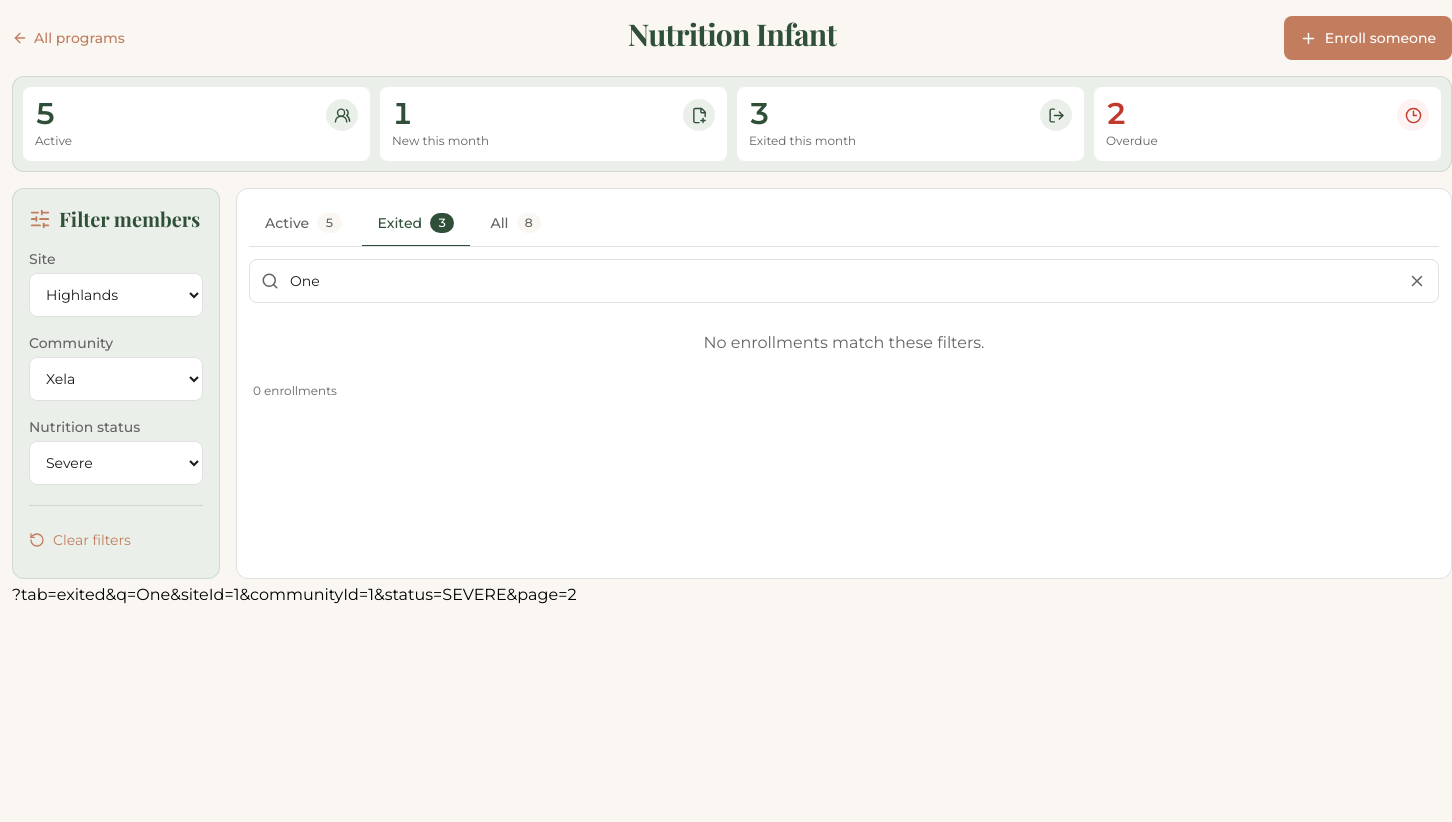
Test: ProgramRosterPage › clears every filter and the page while keeping the selected enrollment tab
The image size is (1452, 822).
Expected: the text "No enrollments match these filters." is shown, 704,333 -> 984,352
Click the button "Clear filters": {"x": 80, "y": 540} 29,518 -> 131,562
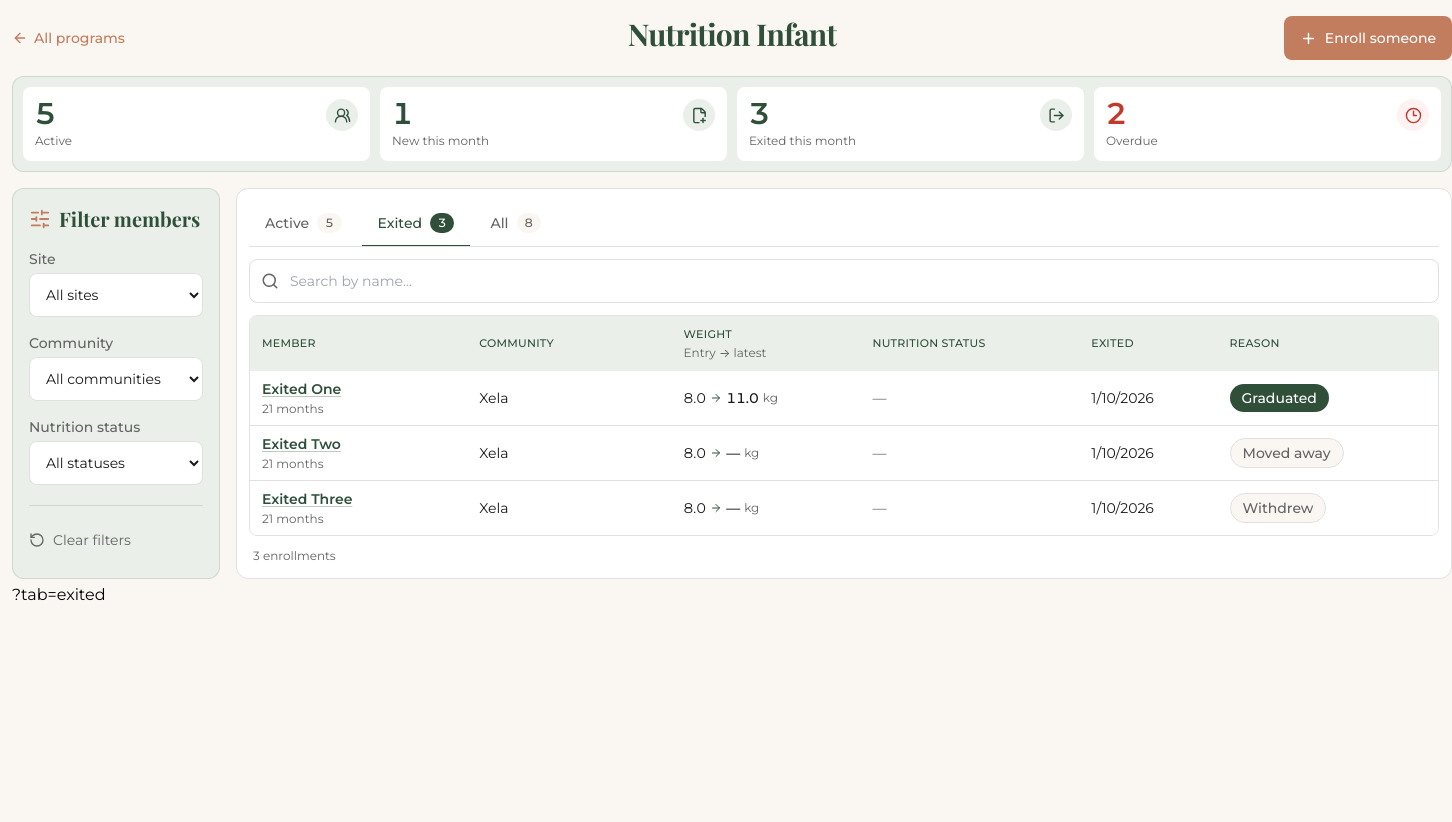
Now the search field labelled "Search" is empty, box 249,259 -> 1439,303
Now the dropdown labelled "Site" shows "All sites", box 29,273 -> 203,317
Now the dropdown labelled "Community" shows "All communities", box 29,357 -> 203,401
